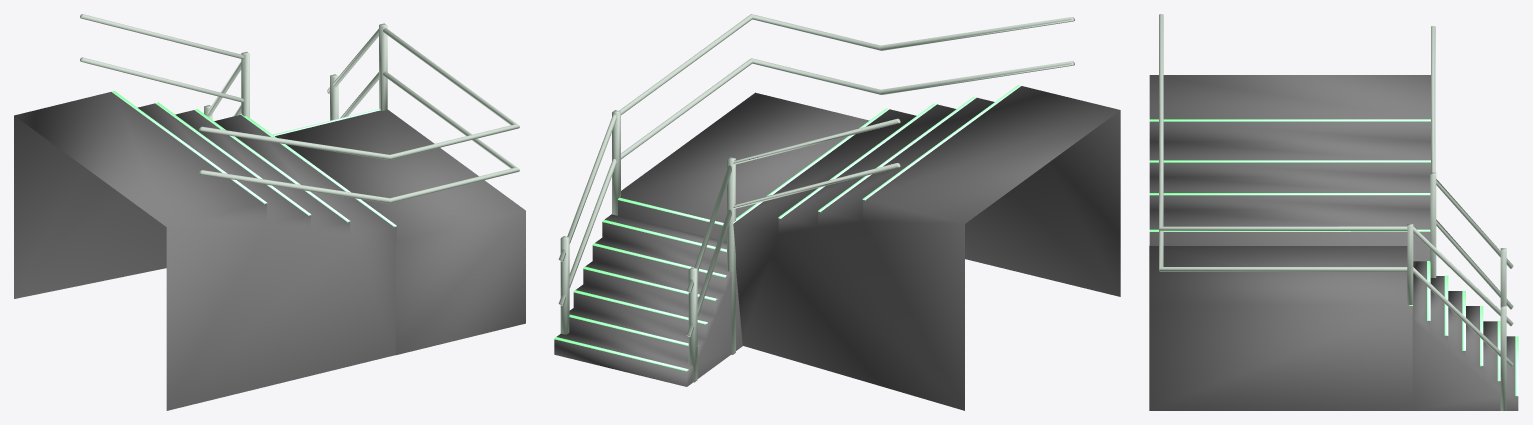
File: stairs 2.fbx
3 views of the same model, side by side, from view 1: azimuth 30°, elevation 25°; view 2: azimuth 150°, elevation 25°; view 3: azimuth 270°, elevation 25° (orthographic). The views are drawn at different scales.
Parts seen in each view (by area): view 1: stair_entrance; view 2: stair_entrance; view 3: stair_entrance.
Part boxes in pixels (box(x1,y1,x2,y2)): stair_entrance: box(14, 14, 525, 410); stair_entrance: box(554, 14, 1120, 410); stair_entrance: box(1149, 14, 1518, 410).
Bounding box in the file's own units: 493 × 354 × 469.
